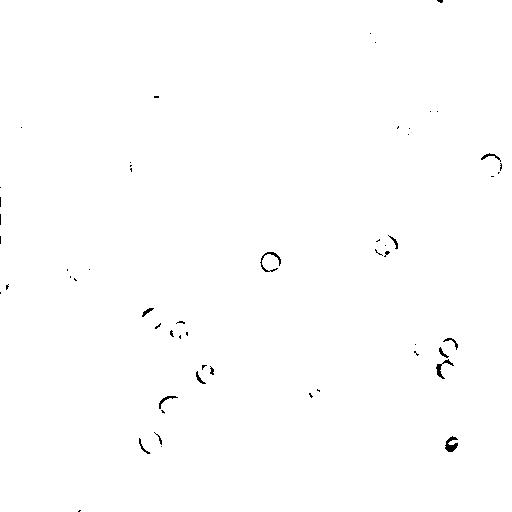micro-algae: (147, 417, 278, 512), (419, 329, 474, 387), (0, 342, 32, 410), (21, 13, 60, 48), (50, 313, 82, 349), (308, 312, 337, 346), (66, 255, 94, 286), (476, 151, 504, 181), (0, 208, 20, 250), (3, 122, 36, 145), (128, 148, 151, 180), (372, 232, 399, 258), (136, 430, 164, 455), (140, 305, 166, 331), (2, 278, 30, 302), (157, 394, 185, 416), (168, 318, 192, 343), (393, 119, 417, 143), (422, 90, 445, 114), (259, 250, 281, 274), (410, 337, 435, 358), (359, 28, 379, 54), (194, 363, 216, 386), (438, 336, 460, 358), (434, 359, 456, 380), (126, 247, 144, 268), (444, 434, 462, 453), (305, 385, 323, 400), (140, 1, 164, 8), (75, 506, 96, 511), (434, 0, 448, 4)
